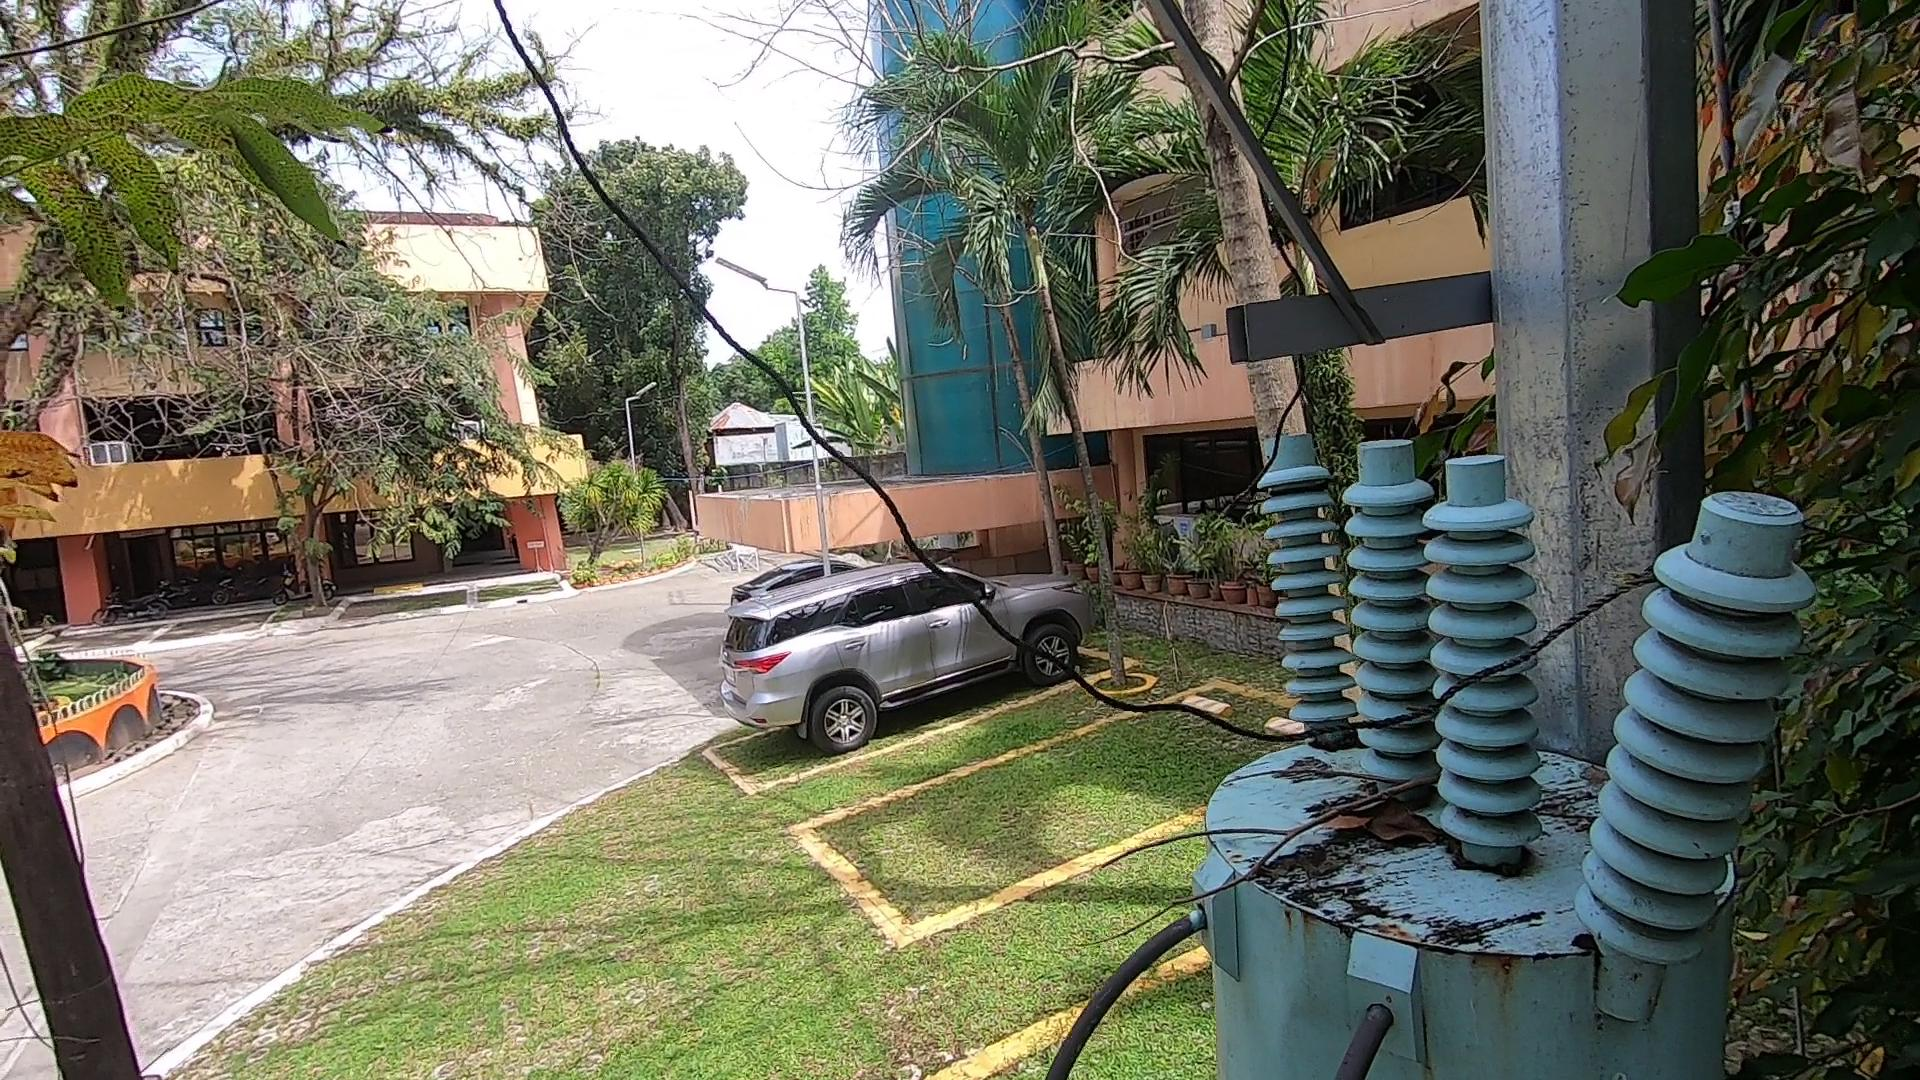leaf: (1331, 796, 1460, 868), (1305, 735, 1379, 757)
tree branch: (1095, 775, 1455, 955)
